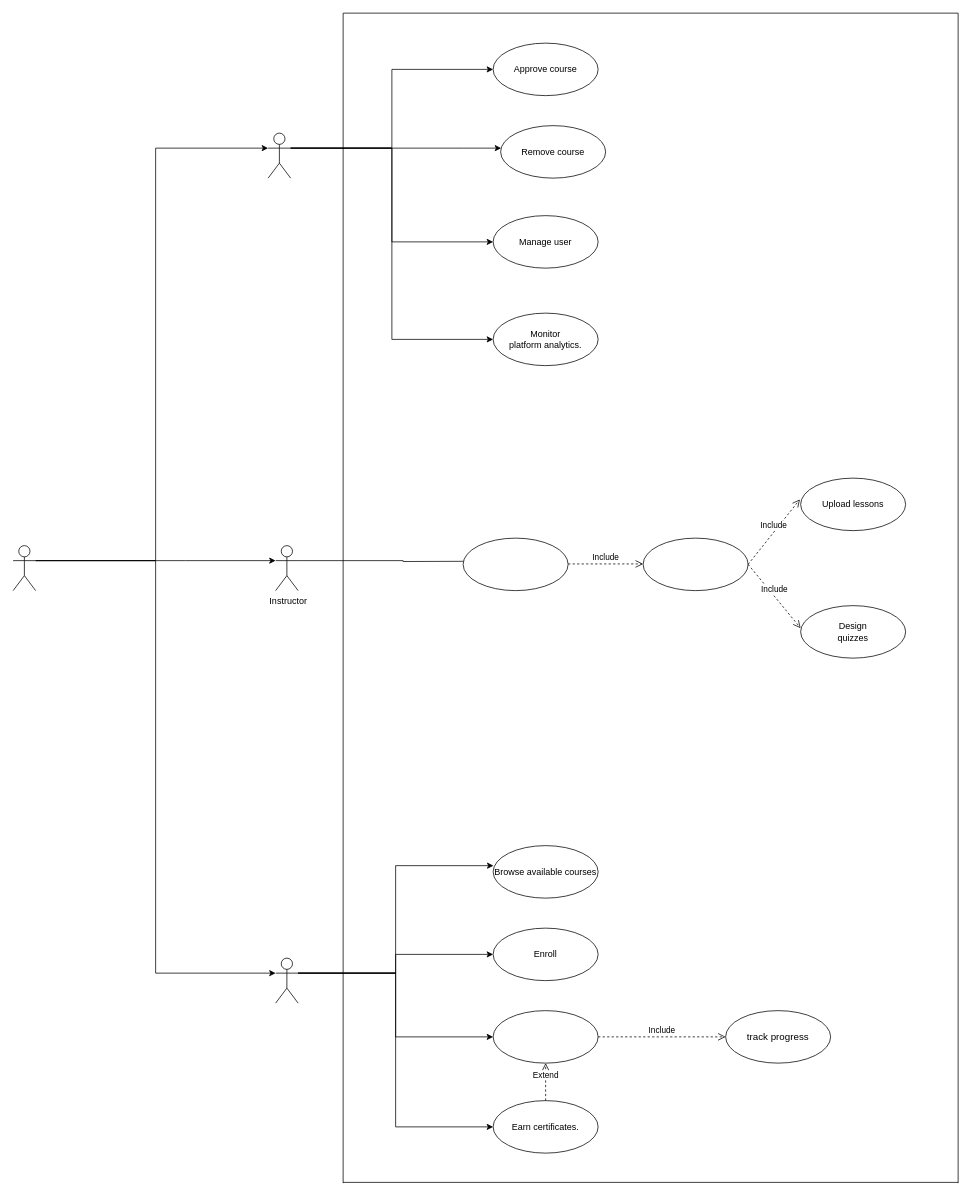
Some shapes in this 972 by 1197 pixel diagram are drawn without their labels. Here are the shapes that lost their labels. From the top down, the box of each, then its label:
(267, 132, 291, 178): Admin
(12, 545, 36, 591): User
(462, 537, 568, 591): manage courses
(642, 537, 748, 591): create courses
(275, 957, 298, 1003): Student
(492, 1010, 598, 1063): Complete lessons and quizzes
